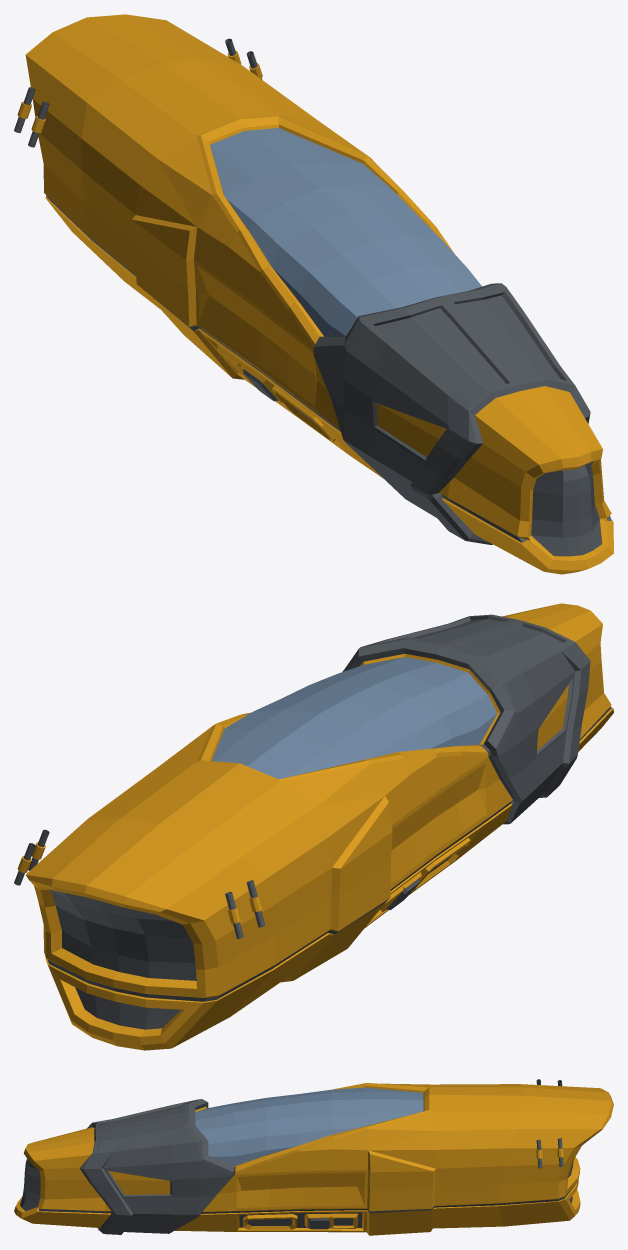
The model's file is Fighter_06_Neutral_Yellow.fbx.
3 views of the same model, one above another, from view 1: azimuth 30°, elevation 25°; view 2: azimuth 150°, elevation 25°; view 3: azimuth 270°, elevation 25° (orthographic). The views are drawn at different scales.
Visible parts, largest first — view 1: Fighter_06_Neutral_Yellow; view 2: Fighter_06_Neutral_Yellow; view 3: Fighter_06_Neutral_Yellow.
Boxes of the visible parts, x1=… form: Fighter_06_Neutral_Yellow: x1=14, y1=14, x2=613, y2=574; Fighter_06_Neutral_Yellow: x1=14, y1=603, x2=613, y2=1050; Fighter_06_Neutral_Yellow: x1=14, y1=1079, x2=613, y2=1235.
Bounding box in the file's own units: 351 × 315 × 1291.
3 materials, 3 textured.
